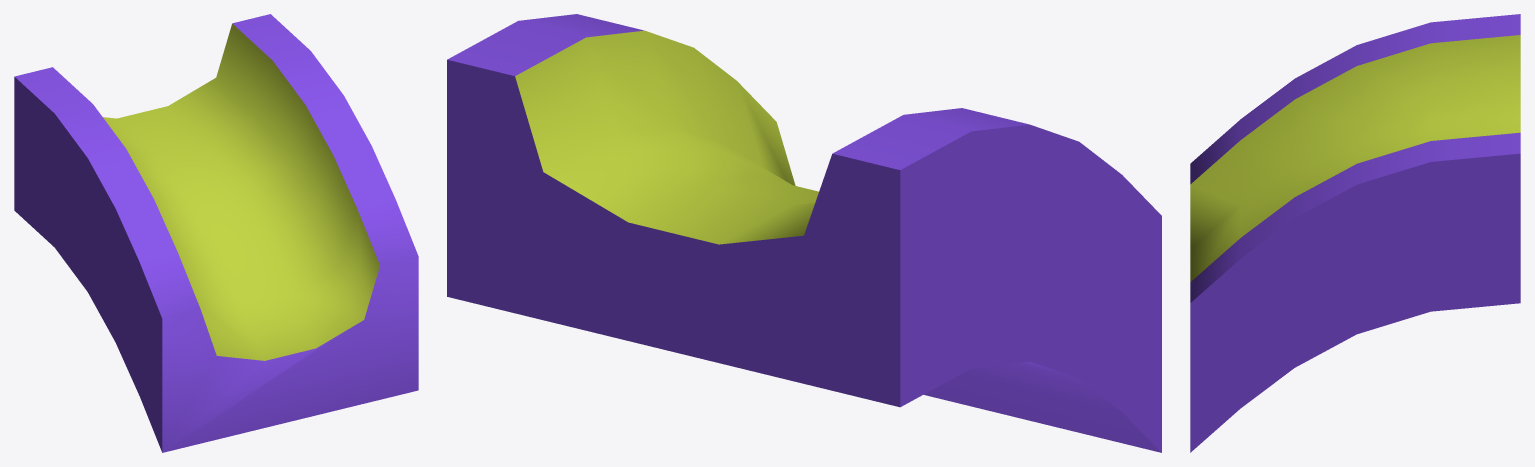
File: rampEnd_C-col.dae
3 views of the same model, side by side, from view 1: azimuth 30°, elevation 25°; view 2: azimuth 150°, elevation 25°; view 3: azimuth 270°, elevation 25° (orthographic). The views are drawn at different scales.
Visible parts, largest first — view 1: rampEnd_C-col; view 2: rampEnd_C-col; view 3: rampEnd_C-col.
Boxes of the visible parts, x1=… form: rampEnd_C-col: x1=14, y1=14, x2=418, y2=452; rampEnd_C-col: x1=447, y1=14, x2=1161, y2=452; rampEnd_C-col: x1=1190, y1=14, x2=1520, y2=452.
Bounding box in the file's own units: 1 × 1 × 1.
